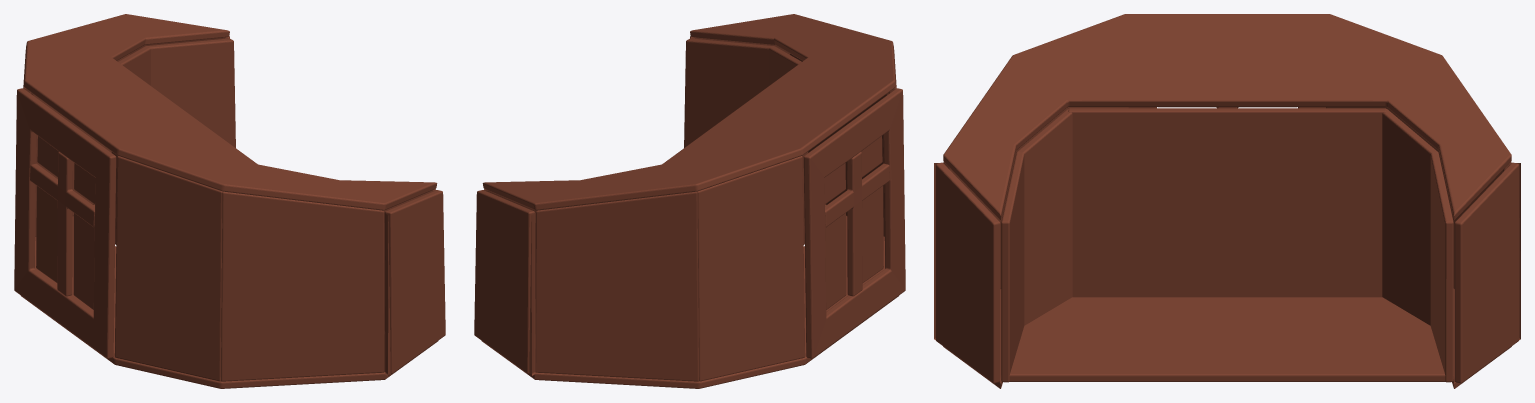
The model's file is atril_iglesia.fbx.
The picture shows the model from 3 angles, left to right: view 1: azimuth 30°, elevation 25°; view 2: azimuth 150°, elevation 25°; view 3: azimuth 270°, elevation 25°; orthographic projection. The views are drawn at different scales.
Parts seen in each view (by area): view 1: ATRIL; view 2: ATRIL; view 3: ATRIL.
Part boxes in pixels (x1,y1,x2,y2): ATRIL: [14, 14, 445, 388]; ATRIL: [474, 14, 905, 388]; ATRIL: [934, 14, 1520, 388].
Bounding box in the file's own units: 201 × 149 × 336.
